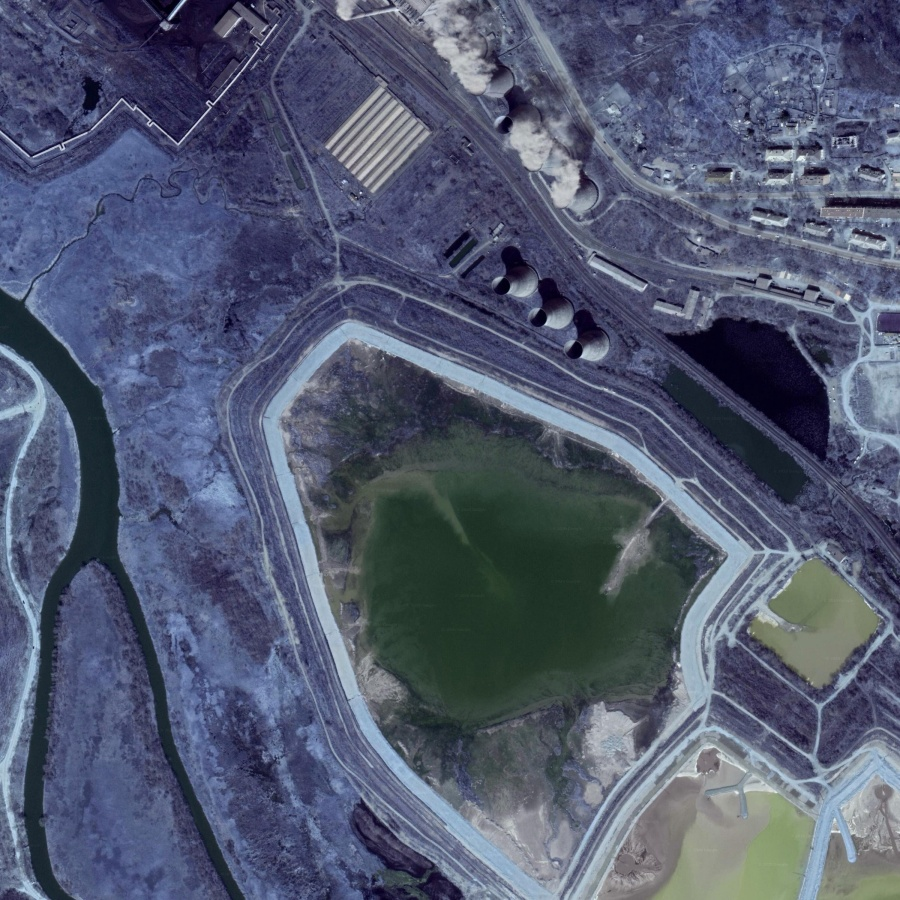PowerPlant: (430, 1, 644, 374)
